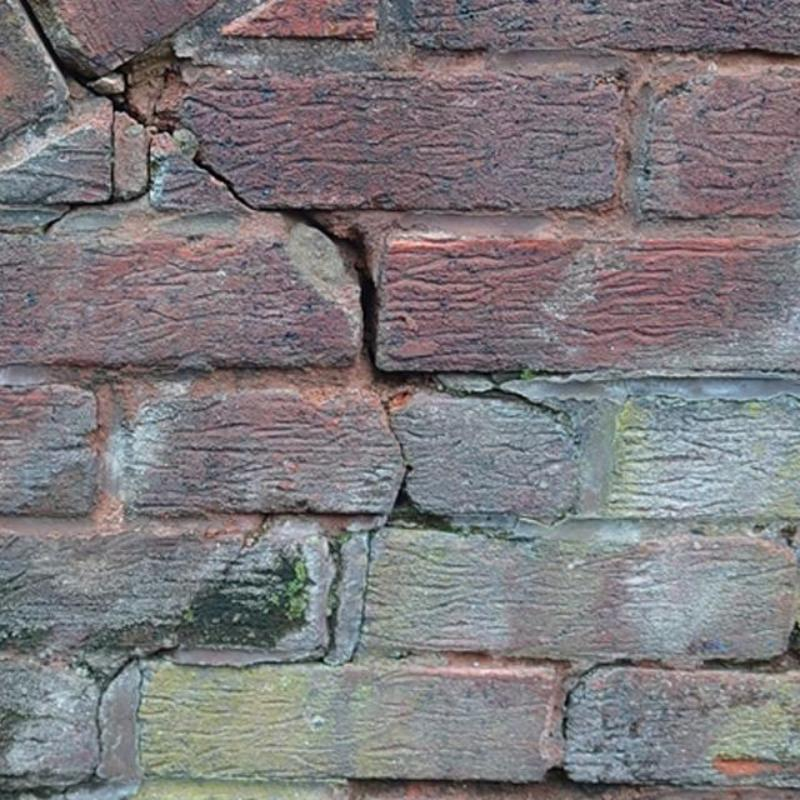pothole: (162, 524, 384, 670), (260, 206, 430, 387), (0, 642, 182, 795), (19, 1, 150, 134), (560, 658, 639, 742), (700, 626, 799, 671), (191, 154, 258, 211), (43, 193, 124, 233), (385, 391, 412, 496), (124, 138, 155, 204), (109, 110, 118, 191), (112, 62, 131, 94), (156, 124, 174, 135)
